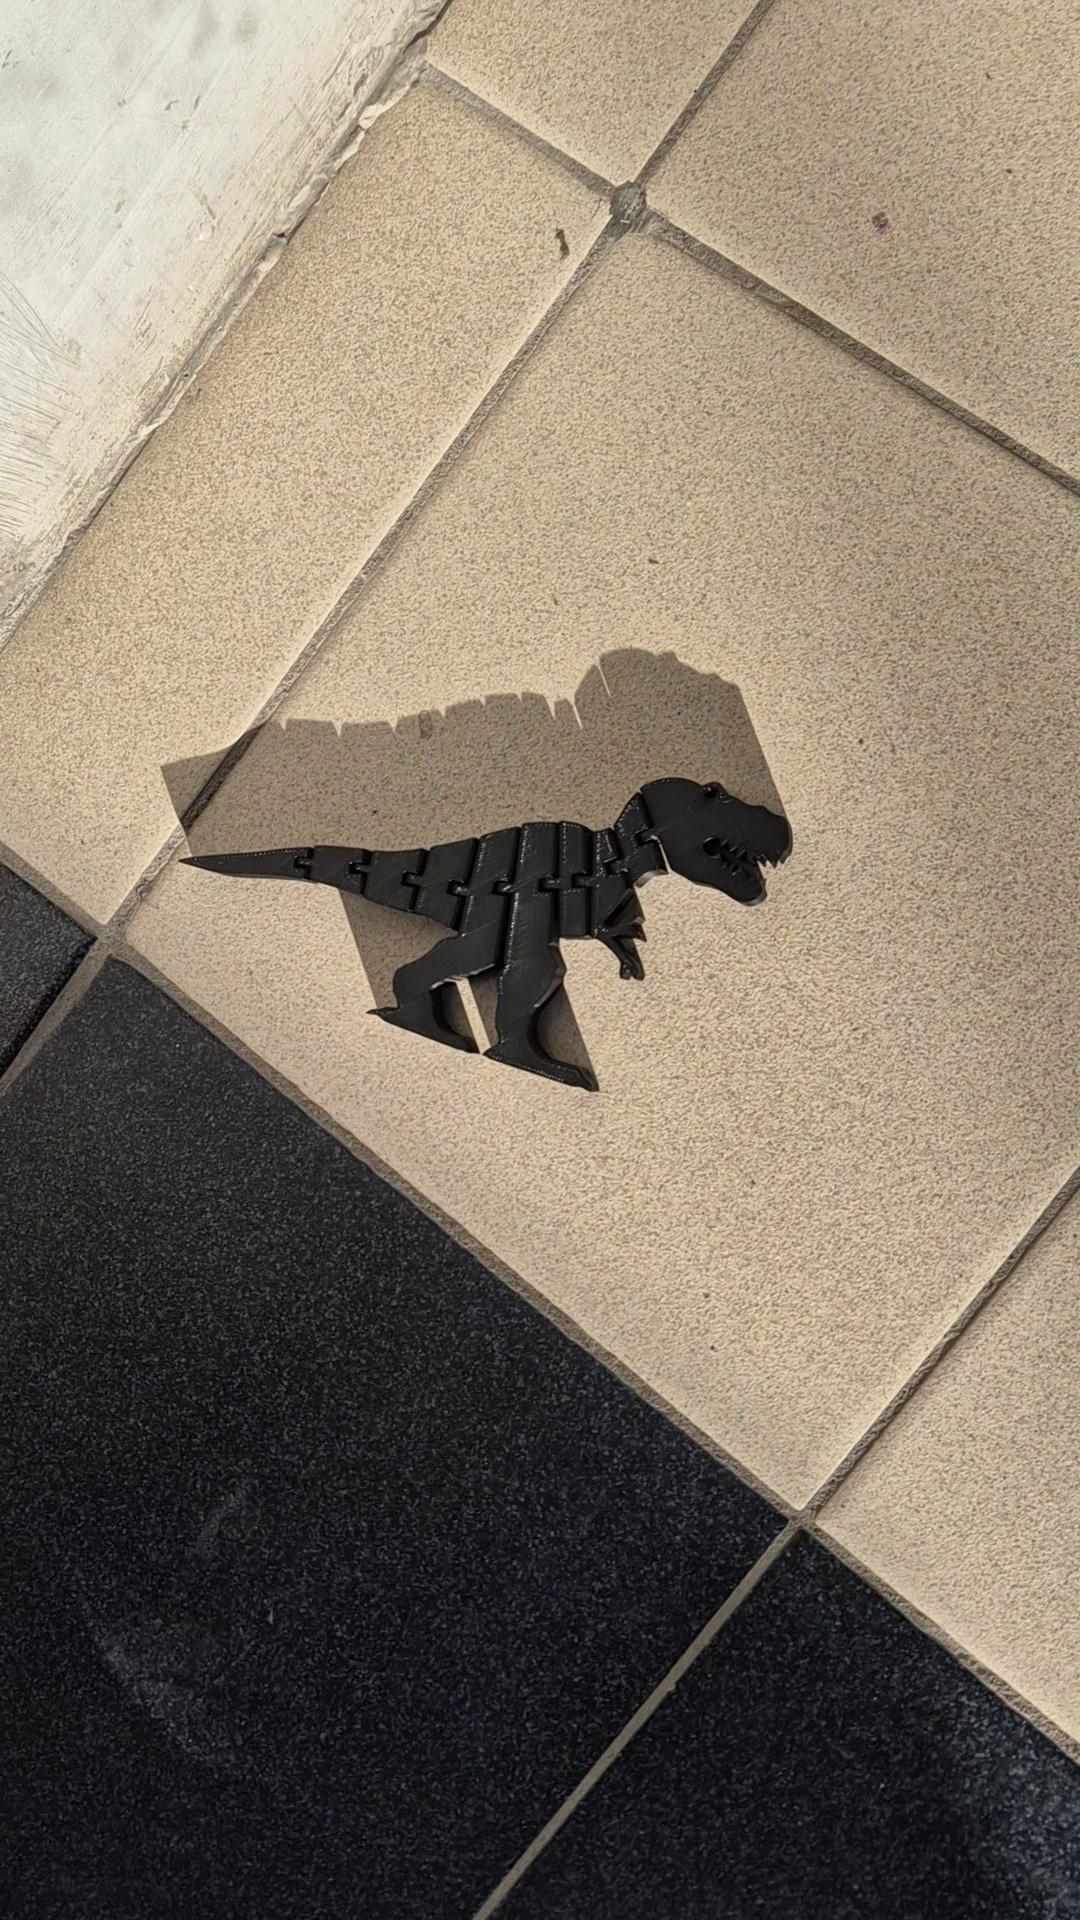dinosaur: (175, 774, 796, 1095)
